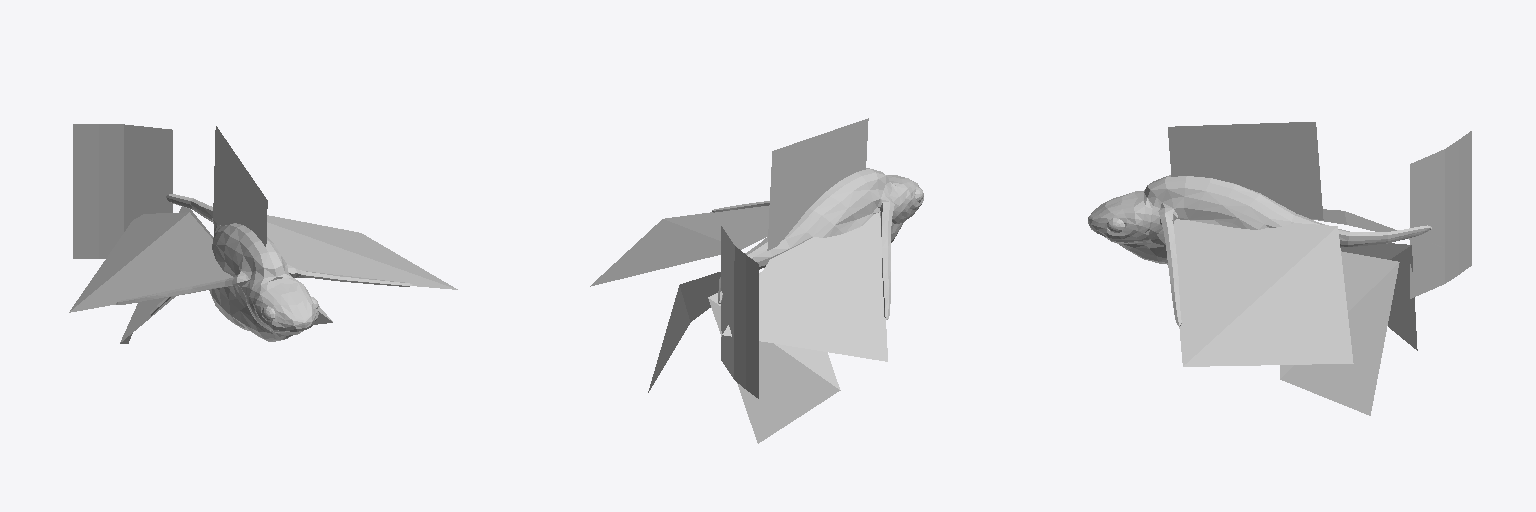
The model's file is fish_000021.obj.
3 renders of one model, left to right at view 1: azimuth 30°, elevation 25°; view 2: azimuth 150°, elevation 25°; view 3: azimuth 270°, elevation 25°, orthographic.
Visible parts, largest first — view 1: flyingFish_low_StingrayPBS1_0; view 2: flyingFish_low_StingrayPBS1_0; view 3: flyingFish_low_StingrayPBS1_0.
Part boxes in pixels (x1,y1,x2,y2): flyingFish_low_StingrayPBS1_0: (69, 124, 457, 343); flyingFish_low_StingrayPBS1_0: (590, 118, 923, 443); flyingFish_low_StingrayPBS1_0: (1088, 122, 1471, 415).
Size of the model in its own units: 16.99 by 13.04 by 18.37.